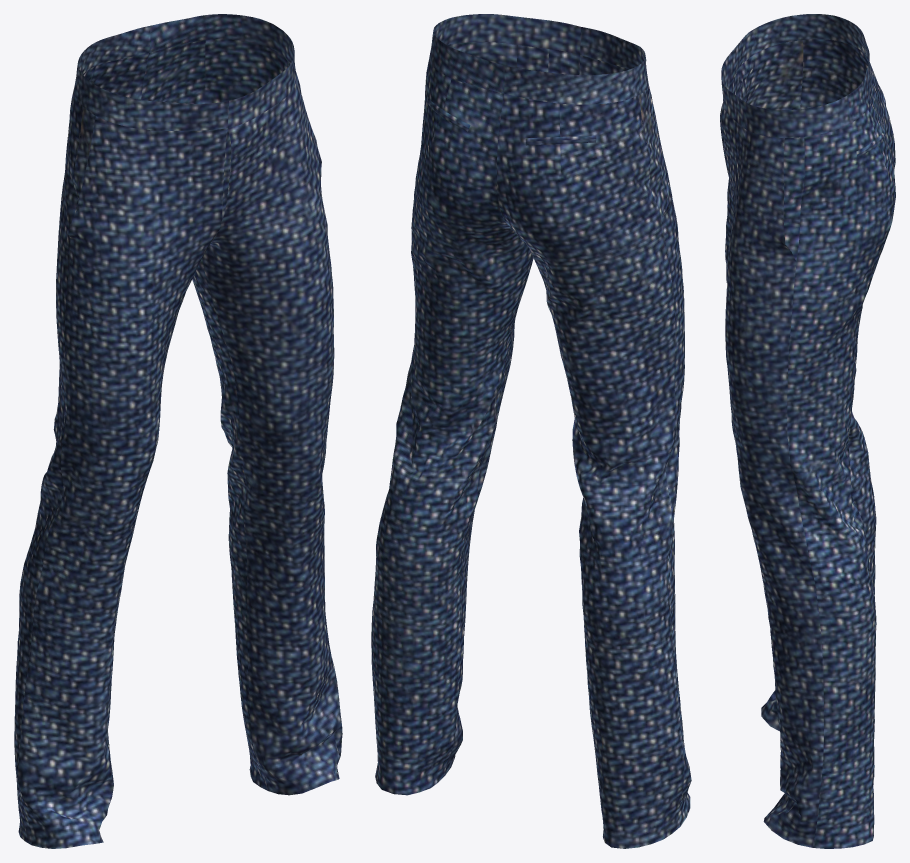
The model's file is man_trouser_blue.gltf.
3 views of the same model, side by side, from view 1: azimuth 30°, elevation 25°; view 2: azimuth 150°, elevation 25°; view 3: azimuth 270°, elevation 25° (orthographic). The views are drawn at different scales.
Visible parts, largest first — view 1: trouser; view 2: trouser; view 3: trouser.
Part boxes in pixels (bbox=[...]): trouser: bbox=[14, 14, 342, 848]; trouser: bbox=[371, 14, 691, 848]; trouser: bbox=[720, 14, 895, 848].
Size of the model in its own units: 47.26 by 110 by 24.07.
Materials: 4 (4 with a texture image).
